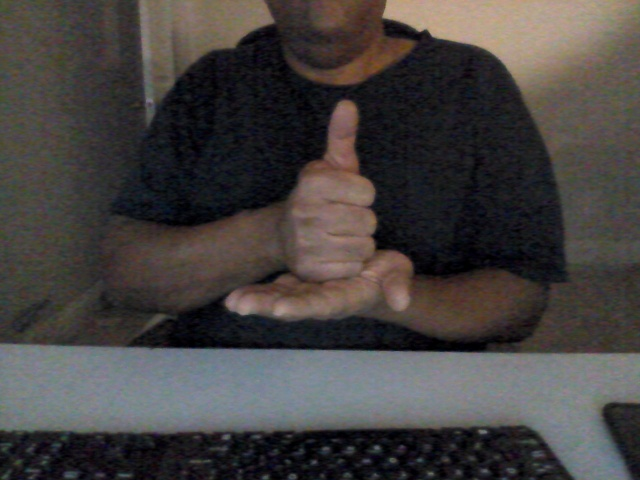help: (226, 91, 418, 327)
